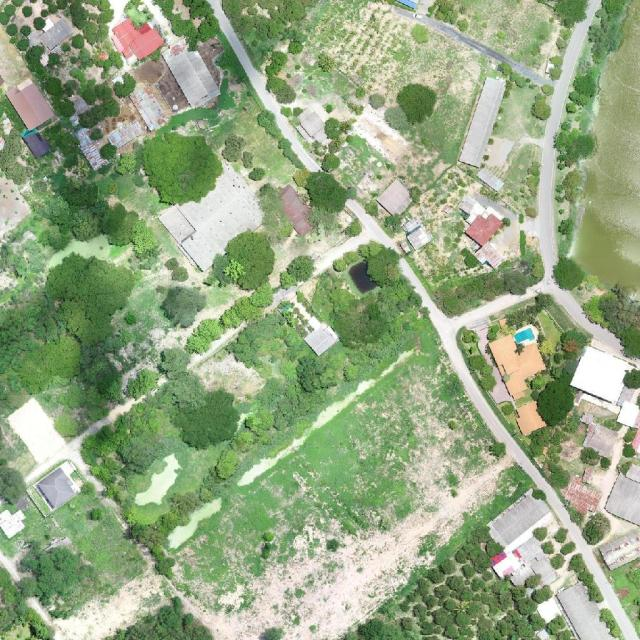building: (157, 161, 273, 274), (487, 326, 553, 402), (160, 35, 223, 111), (458, 74, 508, 168), (484, 488, 550, 550), (25, 458, 90, 519), (570, 345, 633, 405), (556, 580, 616, 640), (105, 9, 165, 69), (5, 77, 56, 132), (272, 181, 320, 238), (515, 535, 559, 590), (489, 544, 538, 592), (557, 473, 606, 520), (128, 84, 170, 133), (457, 189, 514, 225), (598, 529, 640, 572), (464, 206, 505, 248), (71, 126, 109, 171), (375, 178, 416, 219), (579, 422, 620, 460), (303, 320, 341, 357), (106, 117, 145, 151), (511, 401, 547, 437), (38, 17, 75, 52), (295, 106, 328, 139), (406, 225, 434, 252), (616, 400, 640, 428), (625, 463, 640, 483)
dryland: (4, 396, 70, 466)
greenland: (201, 345, 342, 504), (342, 526, 524, 640), (230, 309, 416, 401), (301, 234, 432, 362), (25, 171, 164, 261), (22, 19, 138, 124), (74, 396, 186, 497), (52, 485, 151, 596), (4, 529, 105, 628), (137, 120, 230, 214), (431, 250, 550, 321), (211, 228, 282, 328), (531, 324, 590, 429), (126, 484, 209, 557), (37, 367, 115, 443), (170, 386, 248, 458), (168, 386, 247, 455), (579, 275, 640, 364), (204, 30, 265, 116), (521, 419, 587, 495), (147, 341, 210, 417), (20, 42, 78, 123), (106, 597, 214, 639), (253, 106, 312, 173), (0, 566, 53, 639), (541, 112, 602, 172), (137, 383, 185, 459), (490, 292, 576, 332), (453, 324, 501, 395), (297, 165, 356, 221), (216, 130, 274, 185), (155, 277, 210, 332), (39, 116, 91, 173), (392, 74, 445, 127), (534, 519, 581, 571), (0, 124, 37, 190), (564, 552, 607, 607), (258, 48, 298, 107), (154, 103, 219, 134), (182, 314, 226, 358), (545, 252, 588, 296), (273, 252, 319, 290), (75, 95, 123, 131), (576, 509, 615, 549), (320, 117, 347, 173), (553, 173, 587, 207), (595, 605, 627, 640), (0, 466, 25, 504), (530, 83, 555, 120), (312, 50, 339, 76), (123, 381, 151, 404), (545, 53, 565, 81), (343, 219, 365, 241), (153, 557, 176, 577), (522, 572, 544, 591), (554, 27, 573, 49), (411, 23, 430, 44), (197, 486, 215, 505), (485, 324, 502, 342)
metalled_road: (397, 246, 594, 573), (523, 0, 622, 355), (203, 0, 321, 177), (414, 8, 550, 88), (578, 545, 636, 639), (448, 283, 540, 340), (331, 196, 401, 267), (394, 7, 416, 18)
